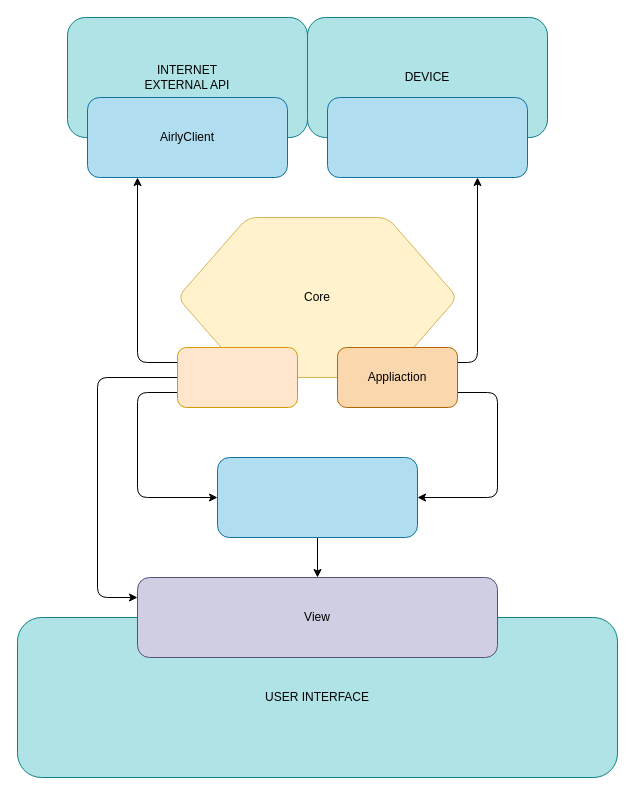
Image size: 635x795. Some labels were removed from this diagram. The centre of each missing label's shape, as x and y in pixels:
"Domain (Model)" goes at [237,377].
"Persistance" goes at [427,137].
"ViewModel" goes at [317,497].
